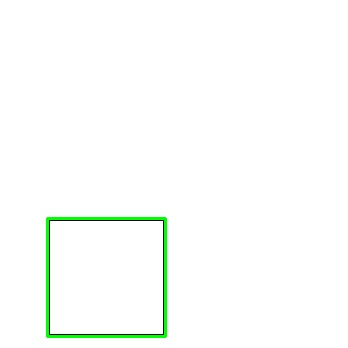line_segment: (46, 217, 167, 338)
